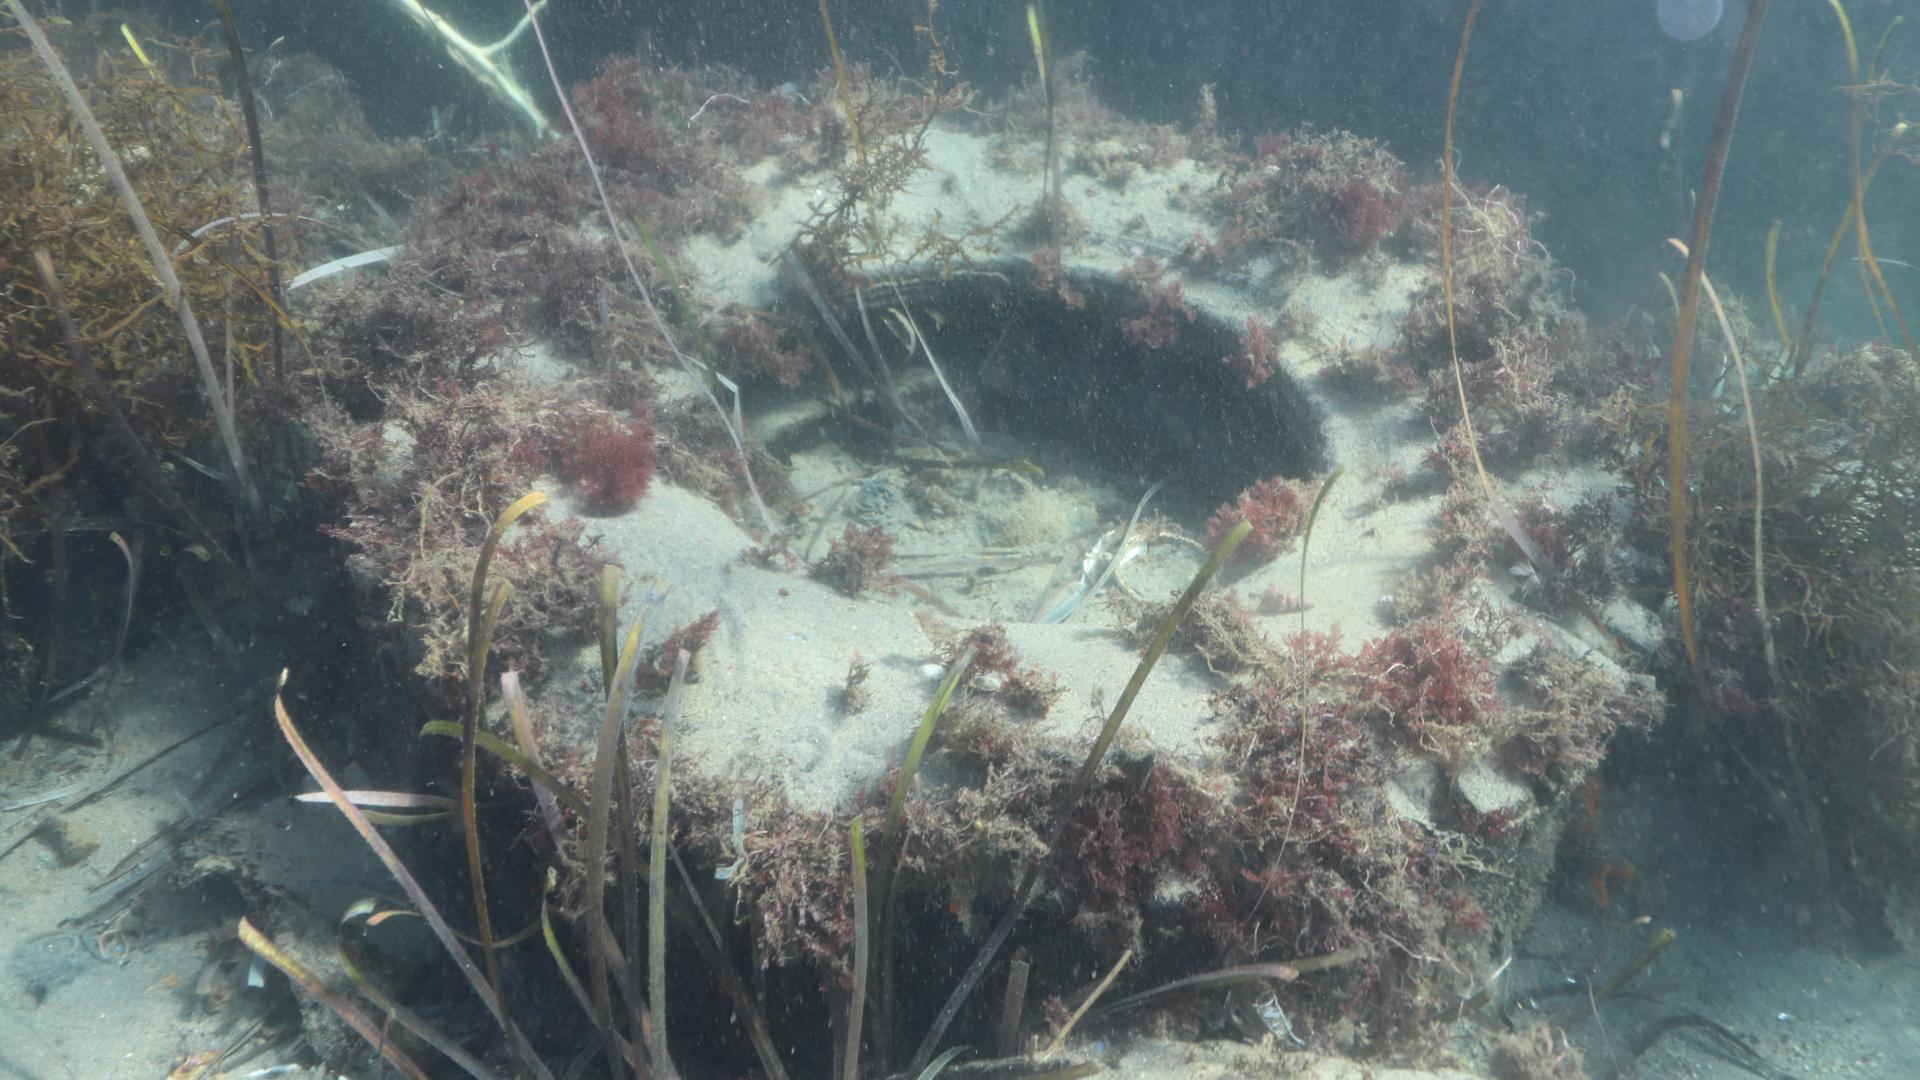tire: (484, 98, 1644, 1033)
